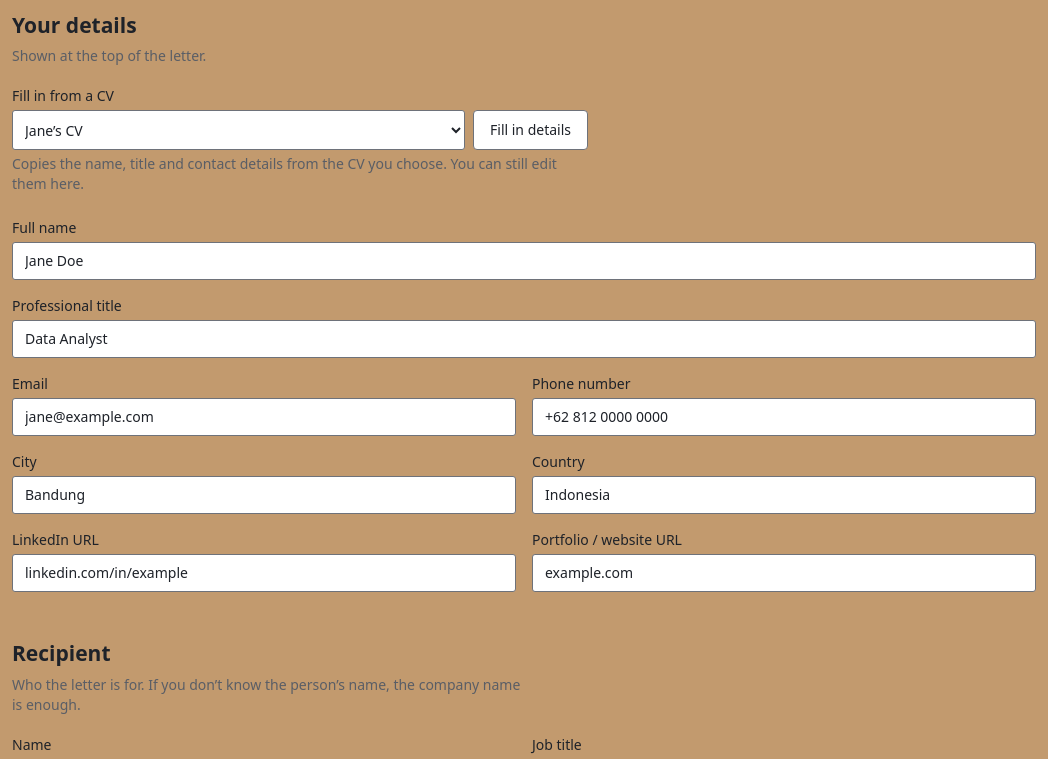
Test: LetterForm fill in from a CV › doesn't ask when the letter already holds the same details
The width and height of the screenshot is (1048, 759).
What coordinates should you click on to do the following:
click the button "Fill in details"
I would click on:
 (530, 130)
Its box is [473,110,588,150].
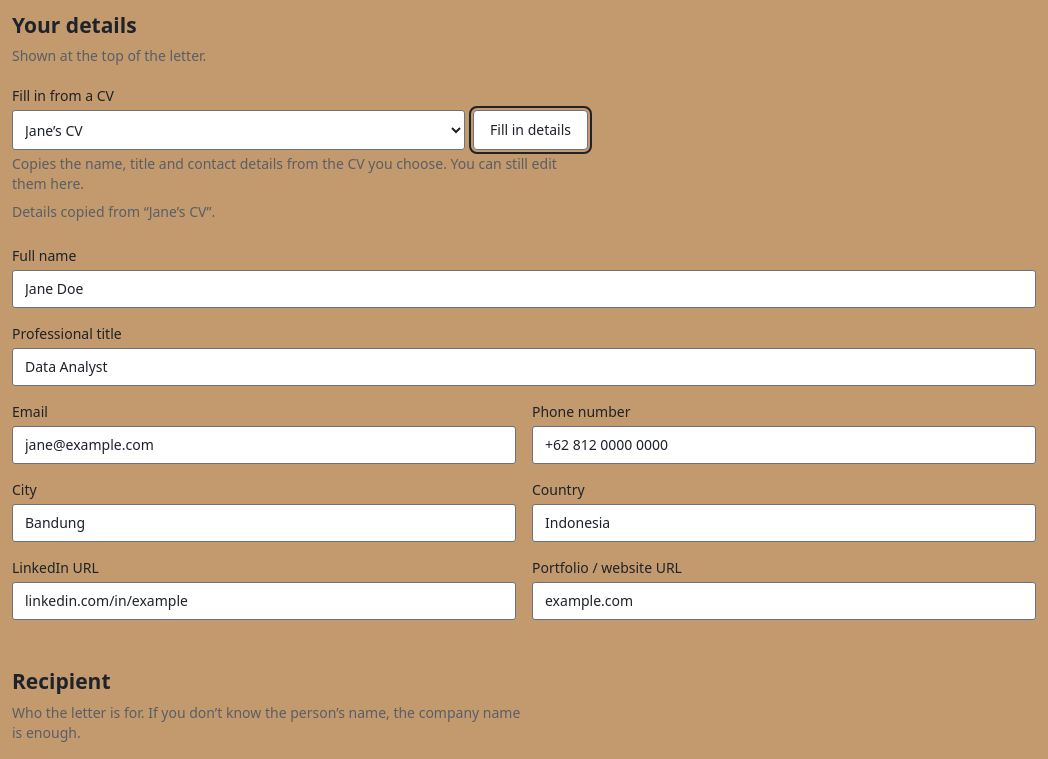
Now the text "Details copied from “Jane’s CV”." is shown, box [12,202,215,221]
